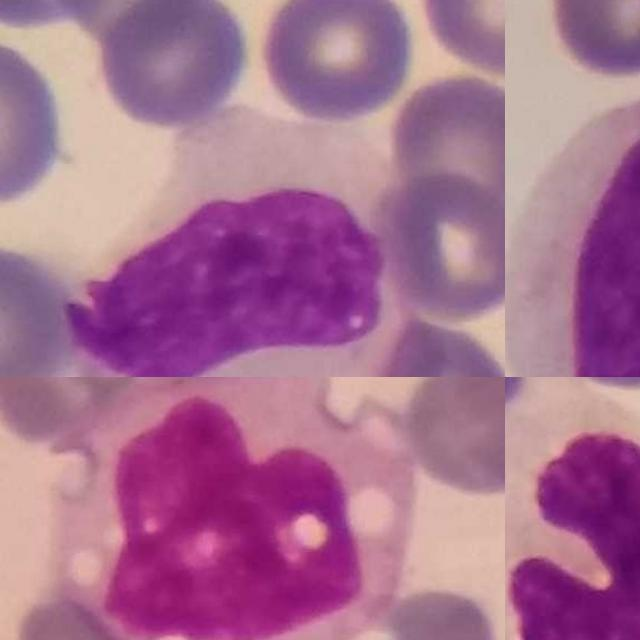Monocyte: (63, 377, 412, 640), (73, 114, 408, 377), (505, 94, 640, 377), (505, 423, 640, 640)
